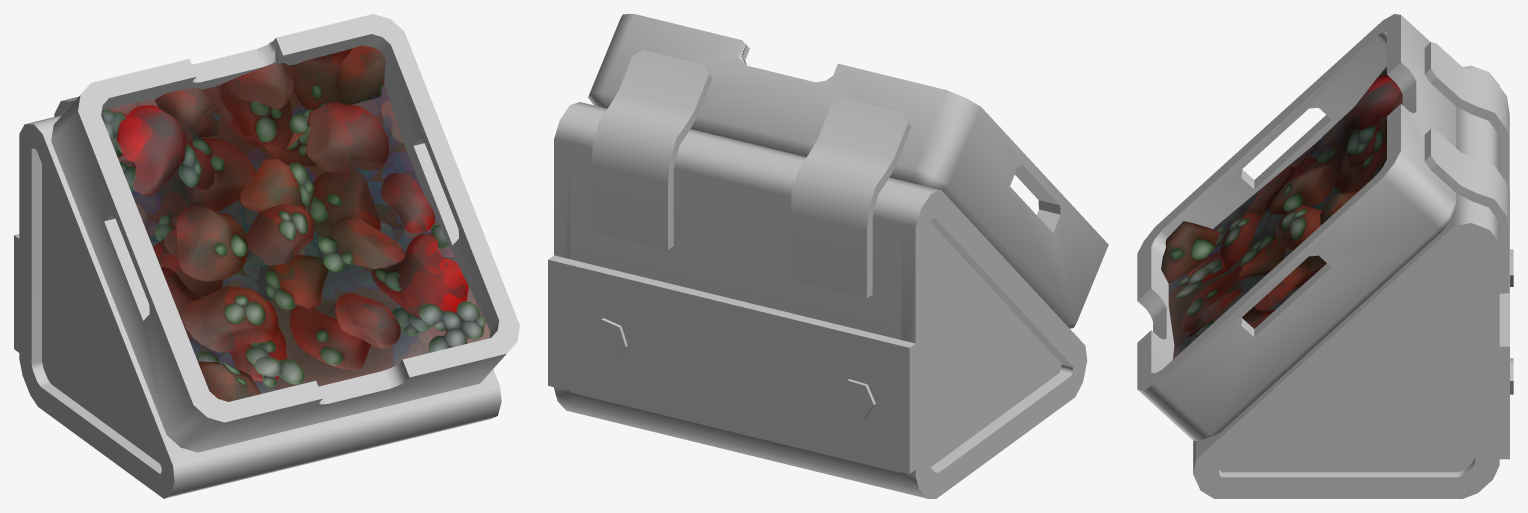
Rendered from obj_decor_basket.fbx.
3 views of the same model, side by side, from view 1: azimuth 30°, elevation 25°; view 2: azimuth 150°, elevation 25°; view 3: azimuth 270°, elevation 25° (orthographic). The views are drawn at different scales.
Visible parts, largest first — view 1: polySurface121; view 2: polySurface121; view 3: polySurface121.
Part boxes in pixels (bbox=[...]): polySurface121: bbox=[14, 14, 519, 498]; polySurface121: bbox=[548, 14, 1108, 498]; polySurface121: bbox=[1137, 14, 1513, 498].
Bounding box in the file's own units: 4.01 × 3.99 × 4.04.
